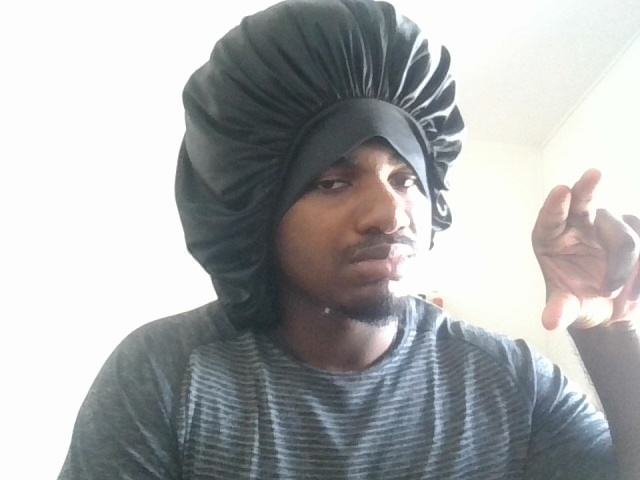No: (506, 160, 640, 344)
